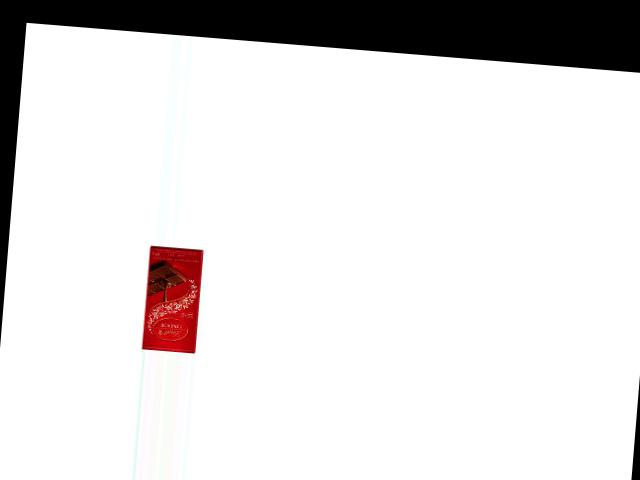chocolate: (136, 246, 205, 353)
